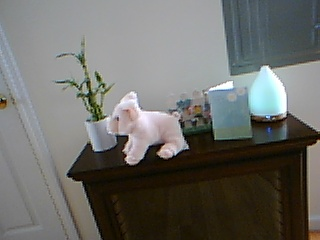piggy: (106, 90, 184, 166)
